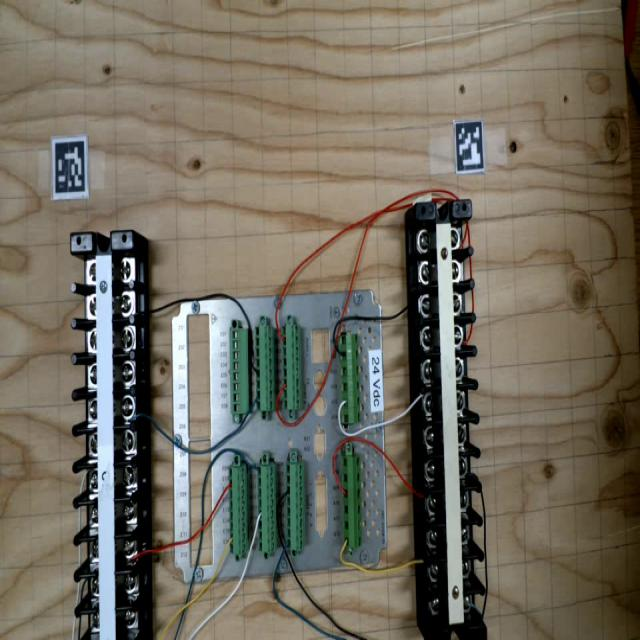Flathead_Block: (411, 201, 487, 640)
Phillips_Block: (71, 231, 136, 639)
Terminal_1: (342, 455, 362, 549), (339, 334, 359, 424)
Terminal_2: (257, 464, 277, 553), (255, 326, 275, 411), (282, 325, 301, 410), (286, 463, 304, 550), (229, 466, 246, 555)
